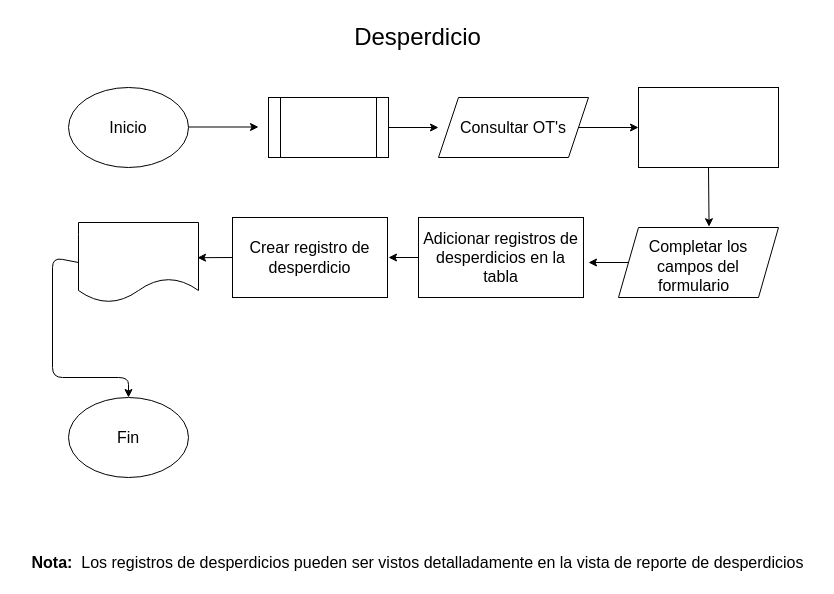
Some shapes in this 834 by 594 pixel diagram are drawn without their labels. Here are the shapes that lost their labels. From the top down, the centre of each, then its label:
pixel 328 127: Creación de OT en Bagpro.
pixel 708 127: Cargue de datos de OT en el formulario
pixel 138 262: Crear PDF
